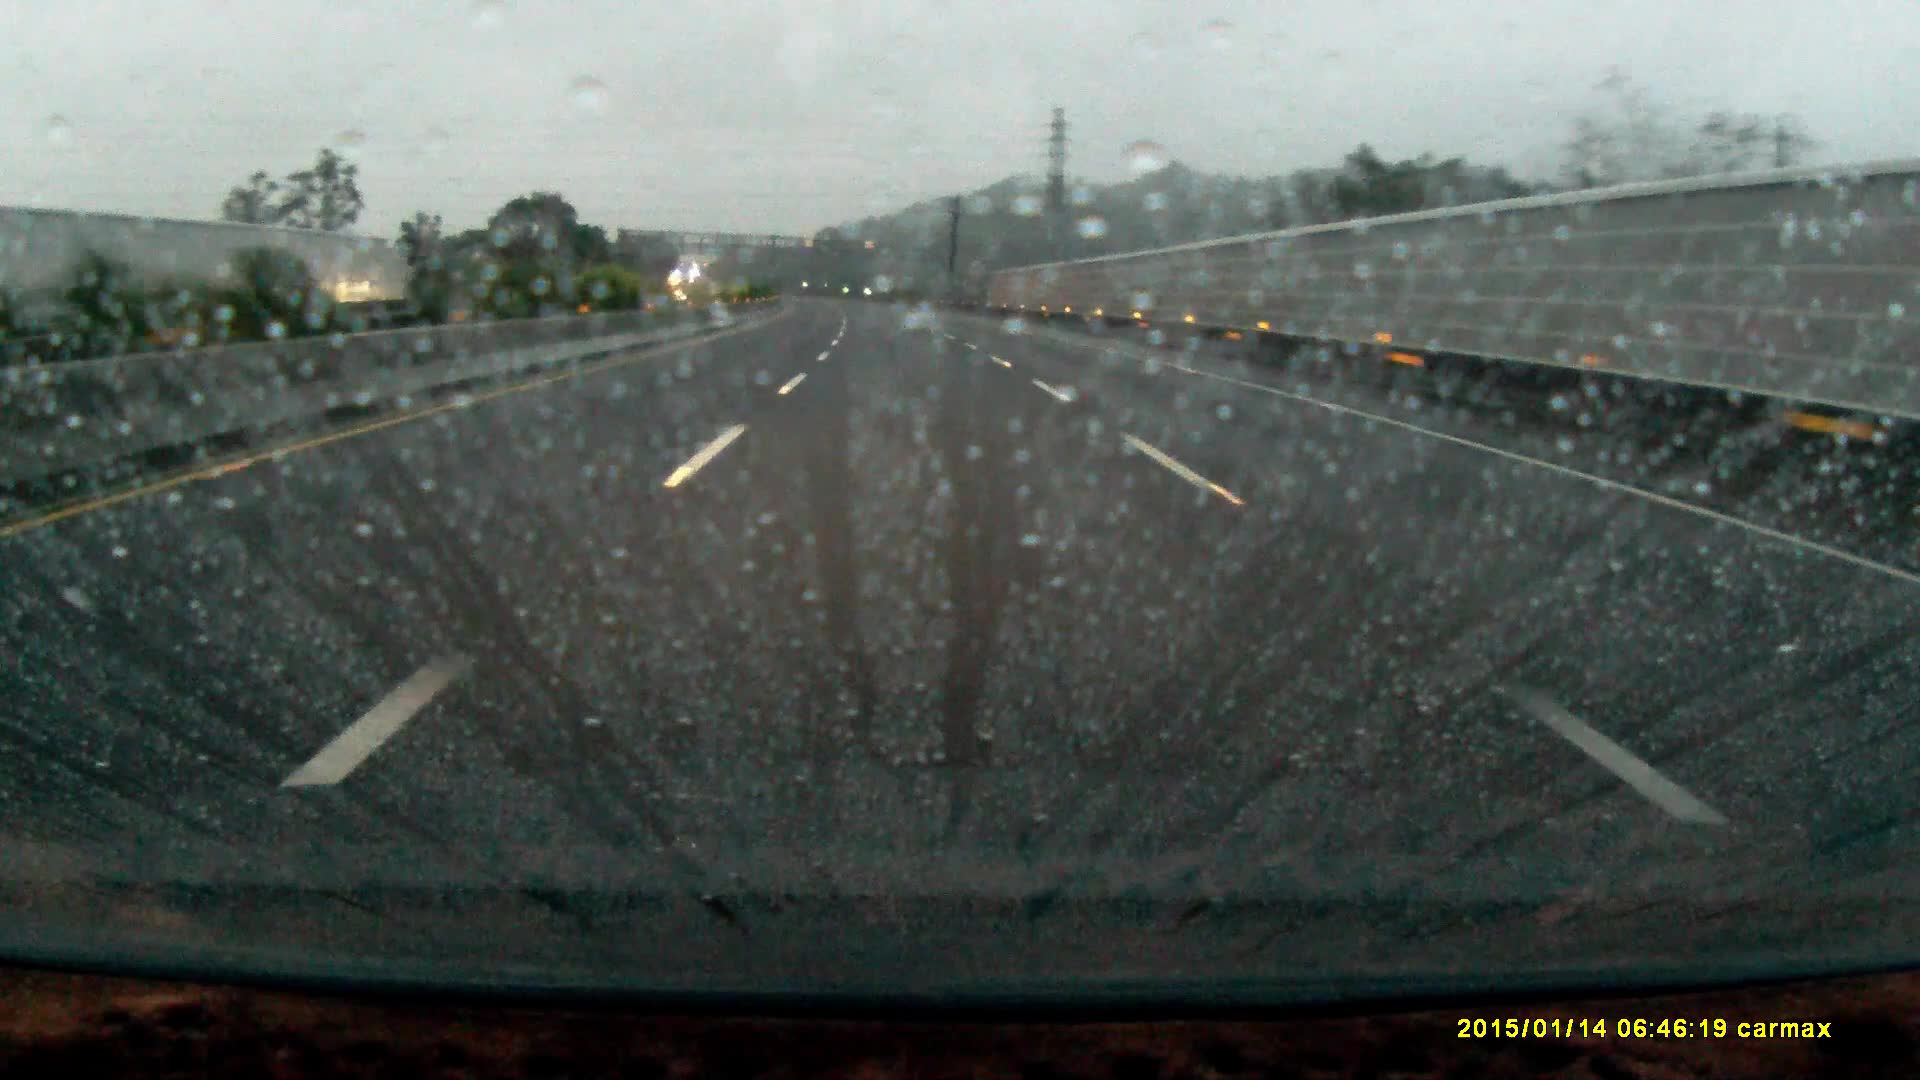vehicle: (669, 272, 703, 301)
